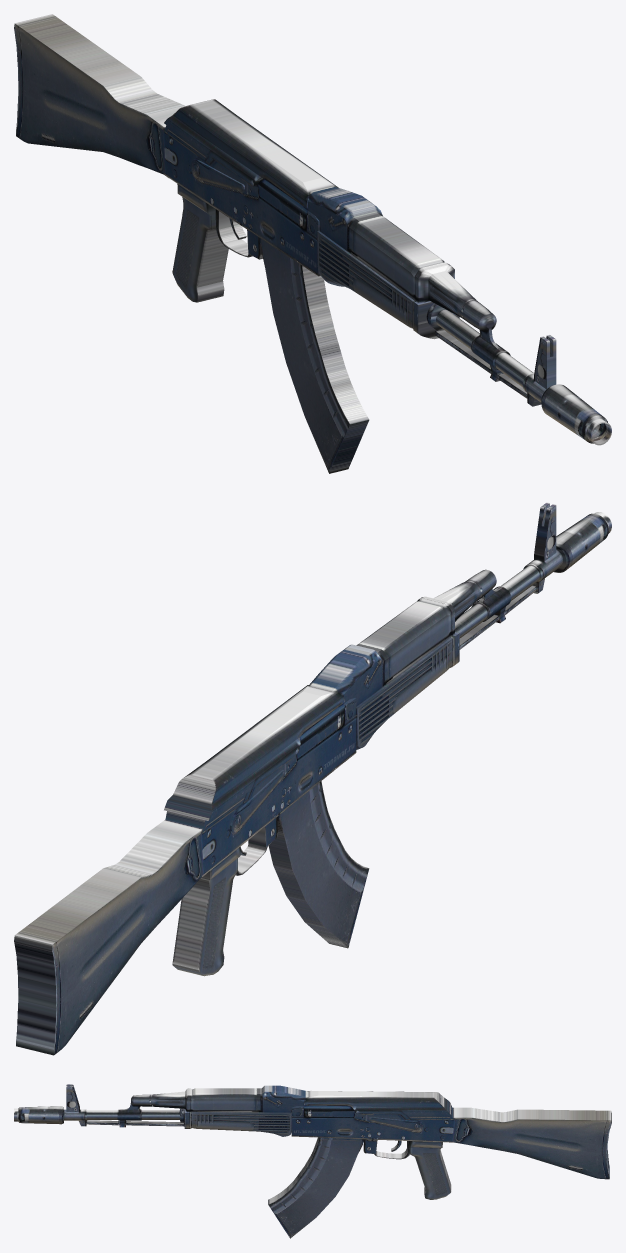
3 renders of one model, top to bottom at view 1: azimuth 30°, elevation 25°; view 2: azimuth 150°, elevation 25°; view 3: azimuth 270°, elevation 25°, orthographic. The views are drawn at different scales.
Visible parts, largest first — view 1: Cylinder; view 2: Cylinder; view 3: Cylinder.
Part boxes in pixels (bbox=[...]): Cylinder: bbox=[14, 14, 611, 473]; Cylinder: bbox=[14, 502, 611, 1055]; Cylinder: bbox=[14, 1084, 611, 1238].
Bounding box in the file's own units: 0.4303 × 2.64 × 9.48.
Materials: 1 (1 with a texture image).
